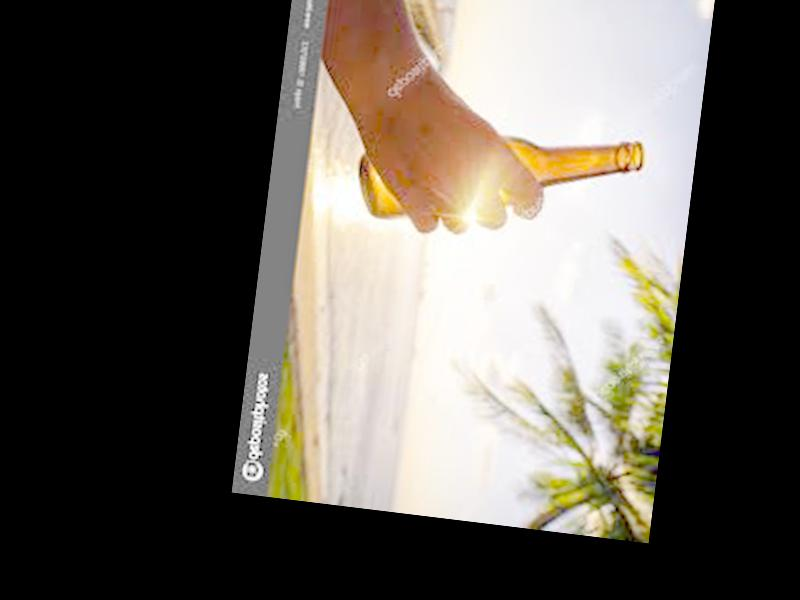Beer: (351, 105, 646, 247)
